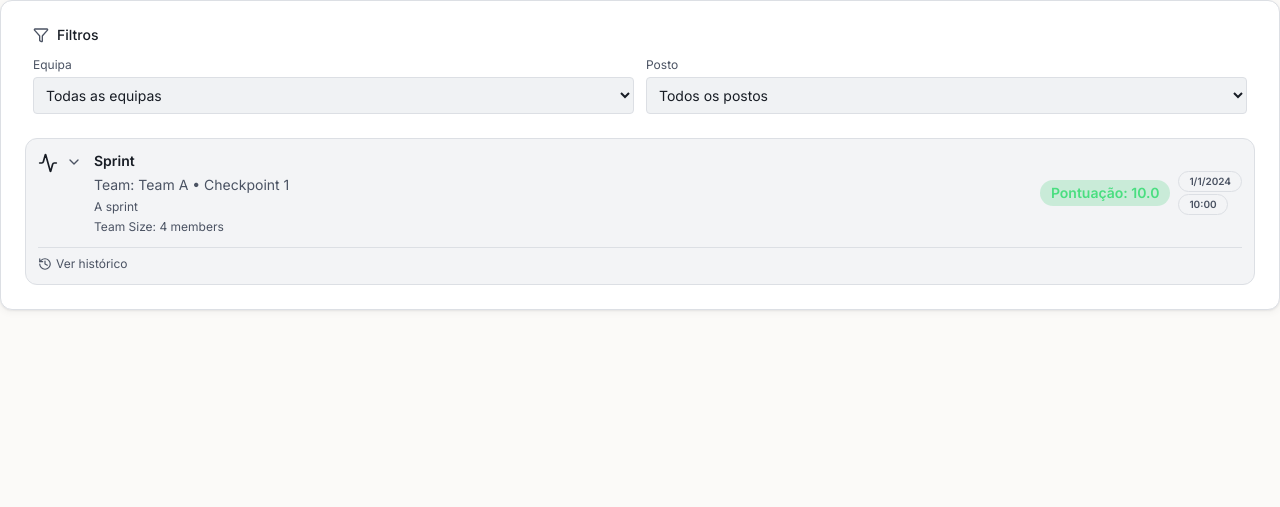
AllEvaluations › collapses an expanded evaluation when toggled again
Click the button "Sprint".
click(114, 160)  # box top-left (38, 151), bottom-right (1028, 235)
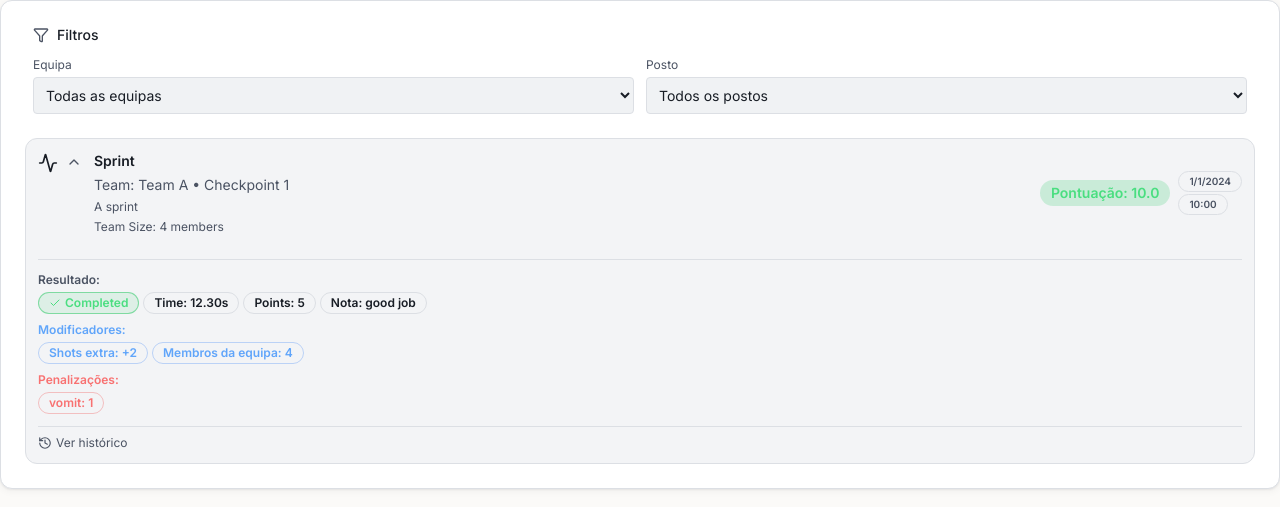
Expected: the text "Completed" is shown, top-left (38, 292), bottom-right (139, 314)
Click the button "Sprint".
click(114, 160)  # box top-left (38, 151), bottom-right (1028, 235)
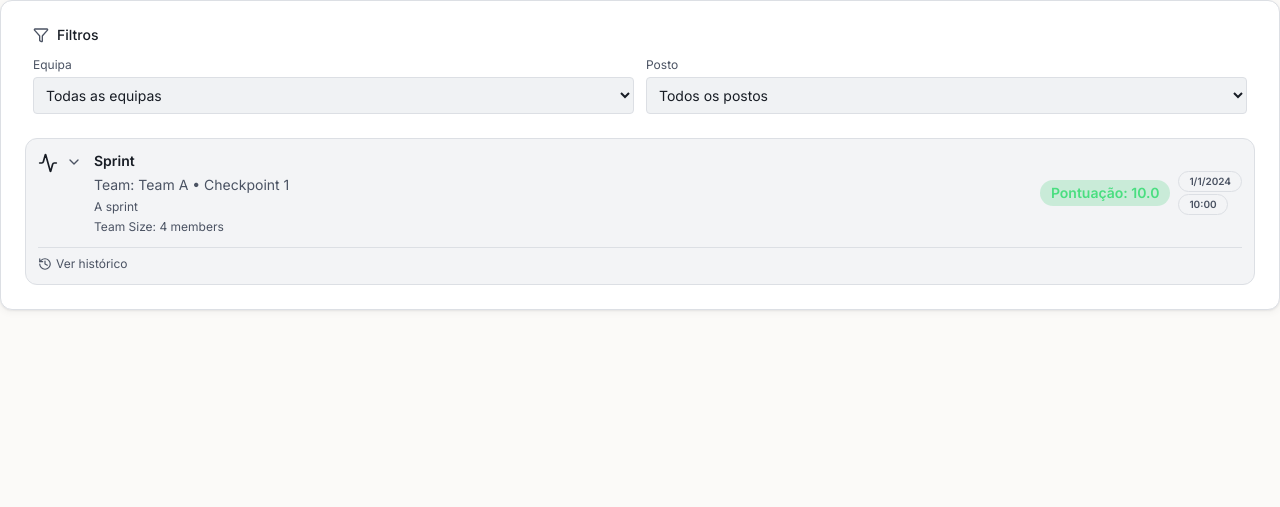
Expected: the text "Completed" is gone
